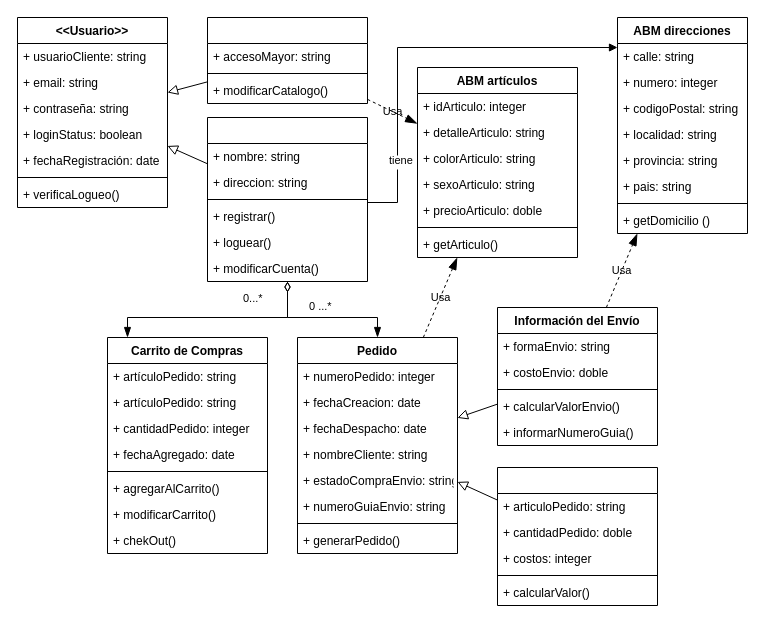
The diagram is 765 pixels wide and 626 high, and some of its shapes have lost their labels. The box of each missing label's shape, as (x1, y1, x2, y2) in pixels:
Administrador: (206, 16, 368, 104)
Cliente: (206, 116, 368, 282)
Facturación: (496, 466, 658, 606)
